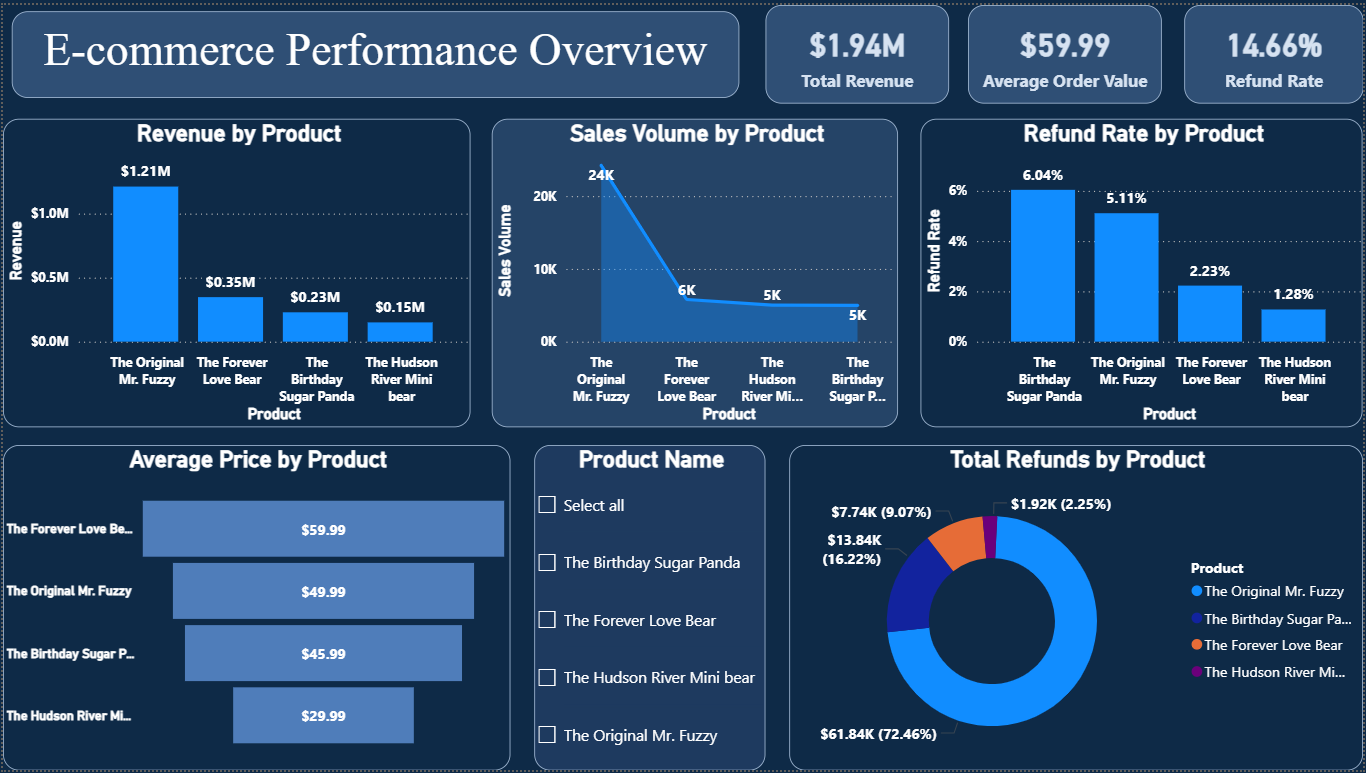

Layout of this report page (visuals, bound fields, positions):
{"tool":"powerbi","page":{"name":"Page 1","canvas":[1280,720],"ordinal":0},"visuals":[{"type":"card","fields":{"Values":["Sum(executive_kpis.average_order_value)"]},"box":[908.8,0,182.5,92.5],"z":0},{"type":"card","fields":{"Values":["Sum(refund_rate.refund_rate)"]},"box":[1111.2,0,168.8,92.5],"z":1000},{"type":"card","fields":{"Values":["Sum(executive_kpis.total_revenue)"]},"box":[717.5,0,172.5,92.5],"z":2000},{"type":"columnChart","fields":{"Category":["product_revenue.product_name"],"Y":["Sum(product_revenue.revenue)"]},"box":[0,107.5,440,290],"z":5000},{"type":"areaChart","fields":{"Category":["price_volume.product_name"],"Y":["Sum(price_volume.units_sold)"]},"box":[460,107.5,382.5,290],"z":6000},{"type":"donutChart","fields":{"Category":["refund_value.product_name"],"Y":["Sum(refund_value.total_refunds)"]},"box":[740,413.8,540,306.2],"z":7000},{"type":"columnChart","fields":{"Category":["refund_rate.product_name"],"Y":["Sum(refund_rate.refund_rate)"]},"box":[863.8,107.5,416.2,290],"z":8000},{"type":"funnel","fields":{"Category":["price_volume.product_name"],"Y":["Sum(price_volume.avg_price)"]},"box":[0,413.8,477.5,306.2],"z":9000},{"type":"textbox","box":[8.8,6.2,685,81.2],"z":10000},{"type":"listSlicer","fields":{"Values":["product_revenue.product_name"]},"box":[500,413.8,217.5,306.2],"z":11000}]}

Visuals, with their boxes in screenshot pixels (x1, y1, x2, y2), scaled from the page's 1280x720 canvas onto the 1366x773 screenshot:
card - Sum(executive_kpis.average_order_value): Rect(970, 0, 1165, 99)
card - Sum(refund_rate.refund_rate): Rect(1186, 0, 1365, 99)
card - Sum(executive_kpis.total_revenue): Rect(766, 0, 950, 99)
columnChart - product_revenue.product_name x Sum(product_revenue.revenue): Rect(0, 115, 470, 427)
areaChart - price_volume.product_name x Sum(price_volume.units_sold): Rect(491, 115, 899, 427)
donutChart - refund_value.product_name x Sum(refund_value.total_refunds): Rect(790, 444, 1365, 772)
columnChart - refund_rate.product_name x Sum(refund_rate.refund_rate): Rect(922, 115, 1365, 427)
funnel - price_volume.product_name x Sum(price_volume.avg_price): Rect(0, 444, 510, 772)
textbox: Rect(9, 7, 740, 94)
listSlicer - product_revenue.product_name: Rect(534, 444, 766, 772)
